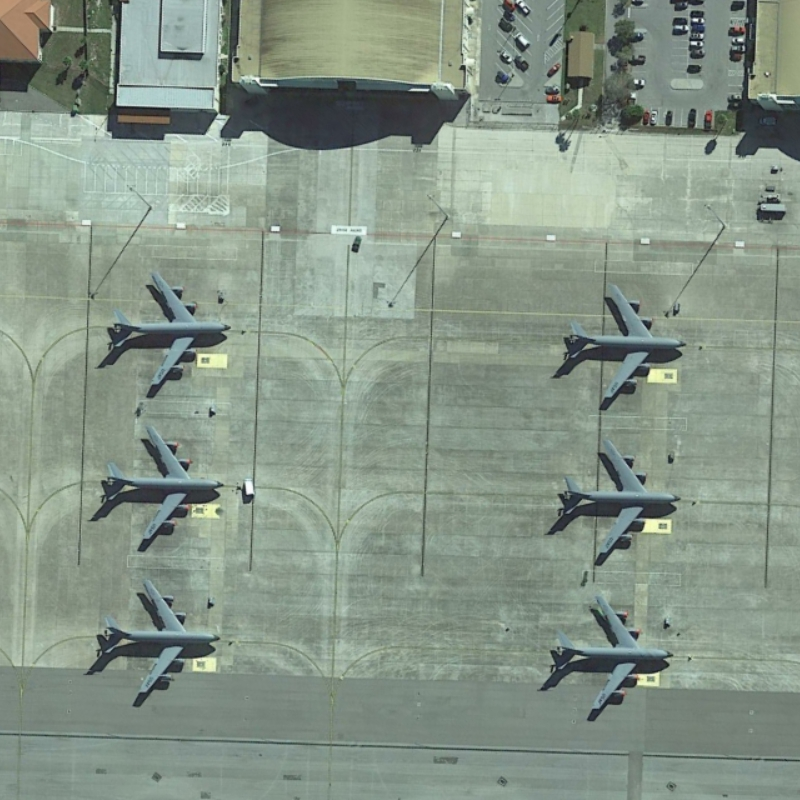A14: (108, 268, 236, 391), (564, 279, 690, 403), (550, 592, 677, 715), (98, 576, 225, 699), (101, 422, 226, 545), (559, 438, 684, 557)
